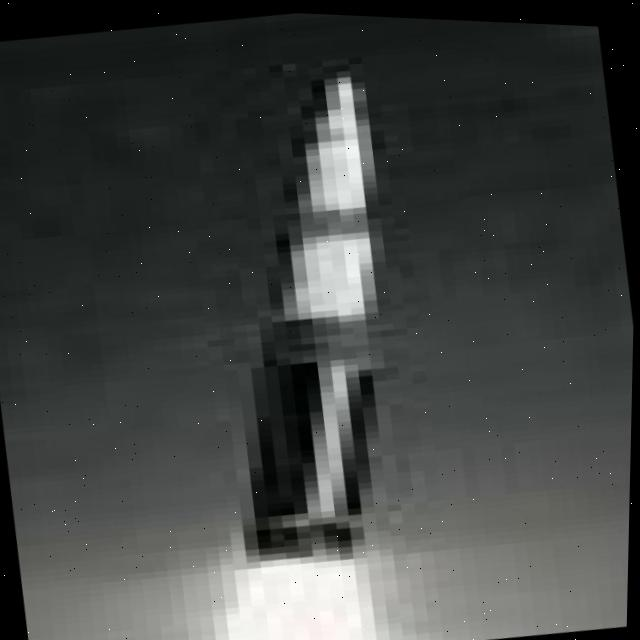missile: (142, 57, 441, 596)
